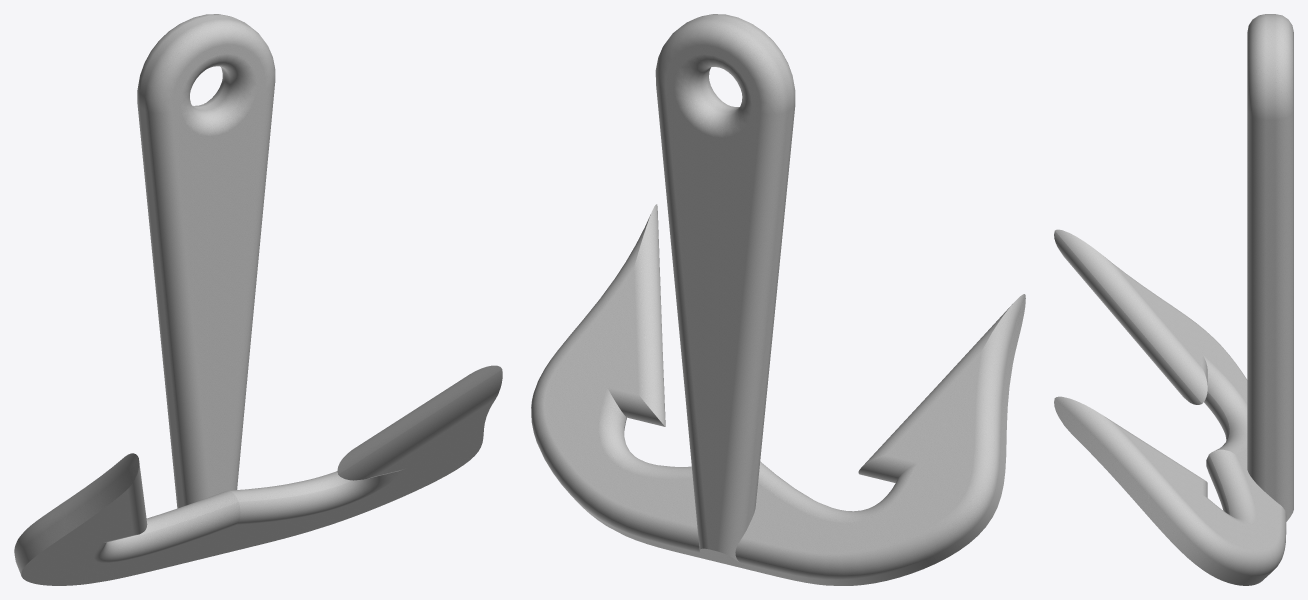
File: anchor.obj
3 views of the same model, side by side, from view 1: azimuth 30°, elevation 25°; view 2: azimuth 150°, elevation 25°; view 3: azimuth 270°, elevation 25° (orthographic). The views are drawn at different scales.
Parts seen in each view (by area): view 1: Solid1; view 2: Solid1; view 3: Solid1.
Part boxes in pixels (x1,y1,x2,y2): Solid1: [14, 14, 502, 585]; Solid1: [531, 14, 1025, 585]; Solid1: [1054, 14, 1293, 585].
Size of the model in its own units: 82.53 by 94.54 by 40.44.
1 material, 1 textured.
